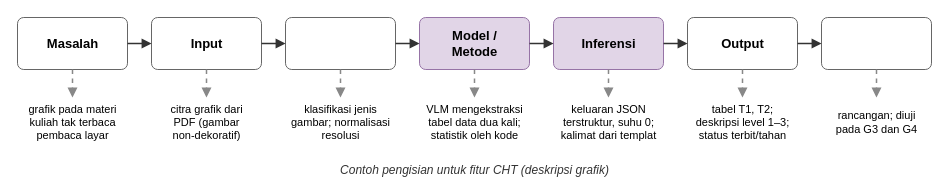
Some shapes in this 949 by 196 pixel diagram are drawn without their labels. The shapes that lost their labels are listed below. From the top down, each one's centre as x and y in pixels, then its label:
At pixel 340 43: "Praproses".
At pixel 876 43: "Status & Bukti".
